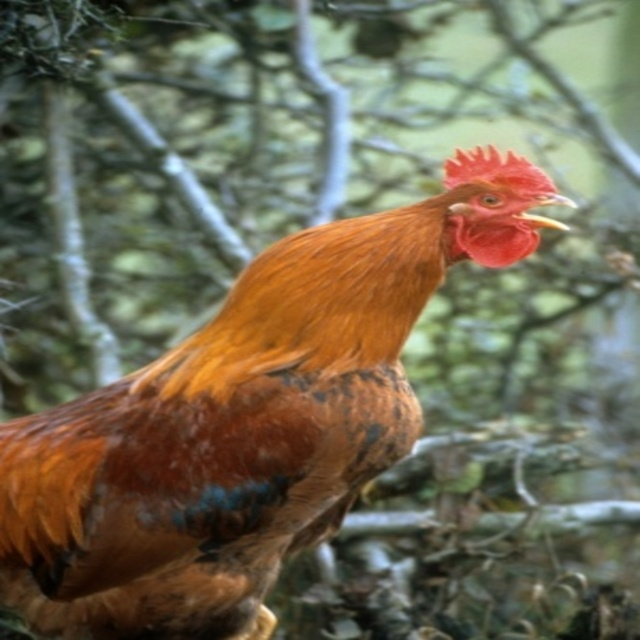Chicken: (0, 140, 574, 632)
